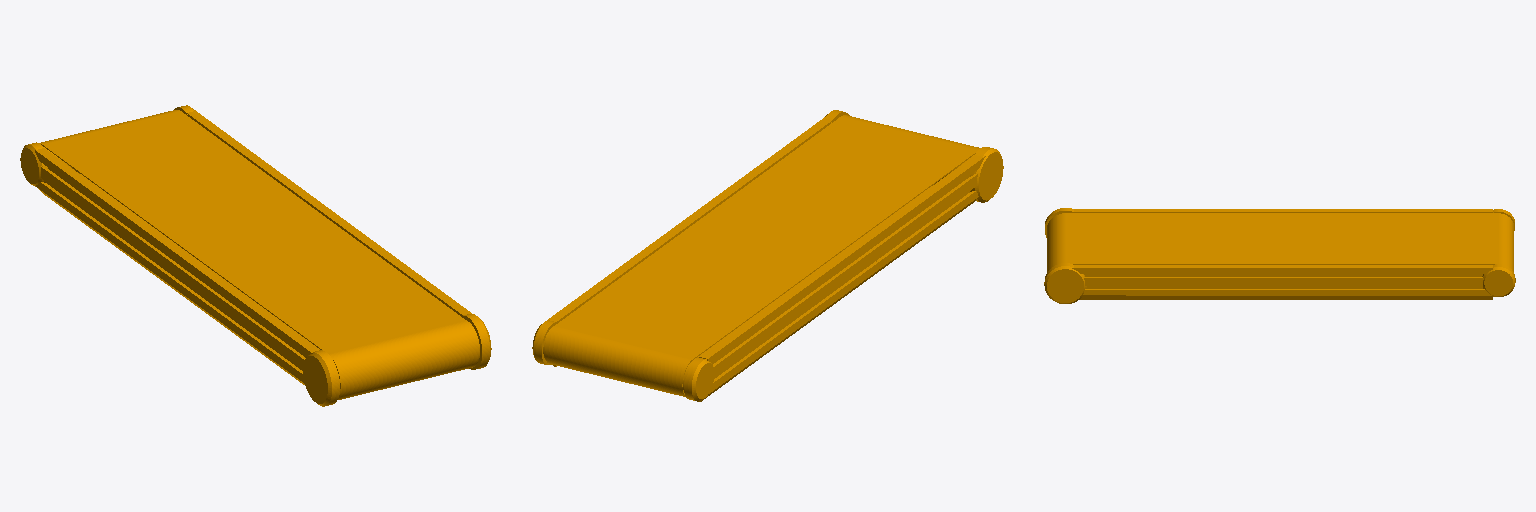
URDF robot description (table):
<?xml version="1.0"?>
<robot name="table">
  <link name="world">
    <visual>
      <origin rpy="0.00 0.0 1.57" xyz="-0.60 -0.35 0.20"/>
      <geometry>
	      <mesh filename="package://rvc_dynamic_motion_controller_tradeshows/meshes/conveyor.obj" scale="0.1 0.1 0.1"/>
      </geometry>
    </visual>
  </link>
</robot>

--- Render facts (derived) ---
The picture shows the robot from 3 angles, left to right: view 1: azimuth 30°, elevation 25°; view 2: azimuth 150°, elevation 25°; view 3: azimuth 270°, elevation 25°; orthographic projection.
Model table with 1 links and 0 joints (none), rooted at world, posed all joints at 0.
Visible links, largest first — view 1: world; view 2: world; view 3: world.
Boxes of the visible links, x1,y1,x2,y2 form: world: [20, 105, 491, 406]; world: [532, 110, 1003, 401]; world: [1044, 208, 1515, 303].
Bounding box of the posed robot: 0.3058 × 1.01 × 0.09 m (x, y, z).
Meshes: 1 distinct files referenced, 1 mesh visuals loaded (1 OBJ).